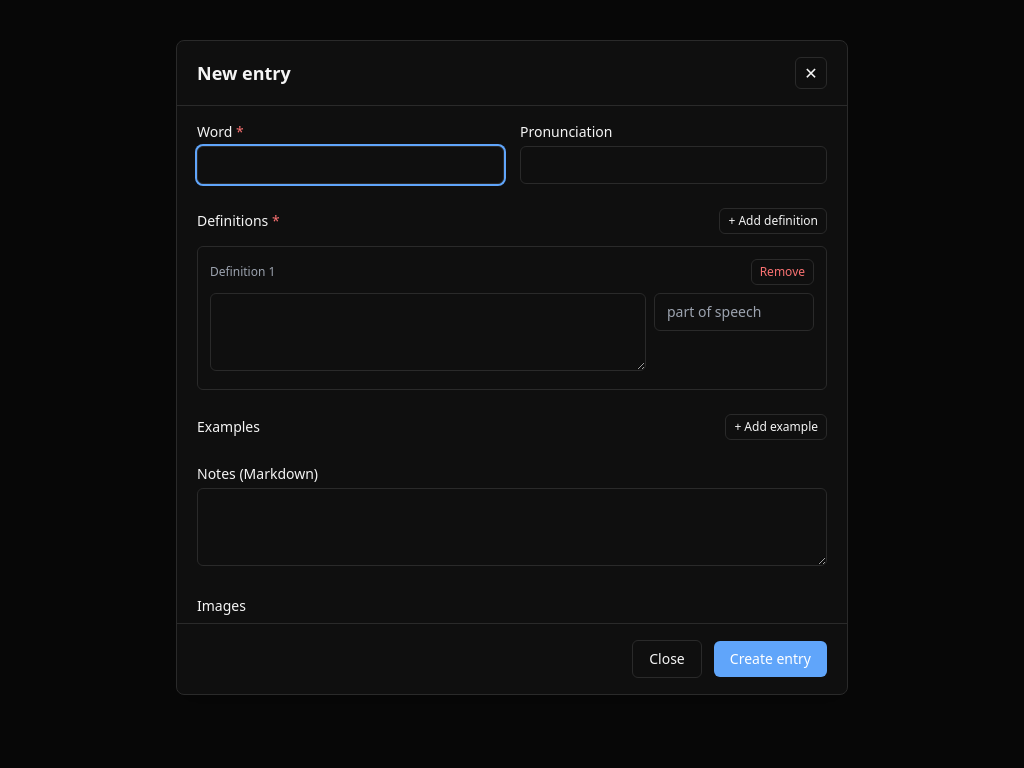
Test: EntryEditor › shows an inline error when the word is empty on submit
Fill a valid definition so the only error is the empty word.
Type "a meaning" into the text box named "definition 1 text".
click(428, 332); type("a meaning")  # box [210,293,646,371]
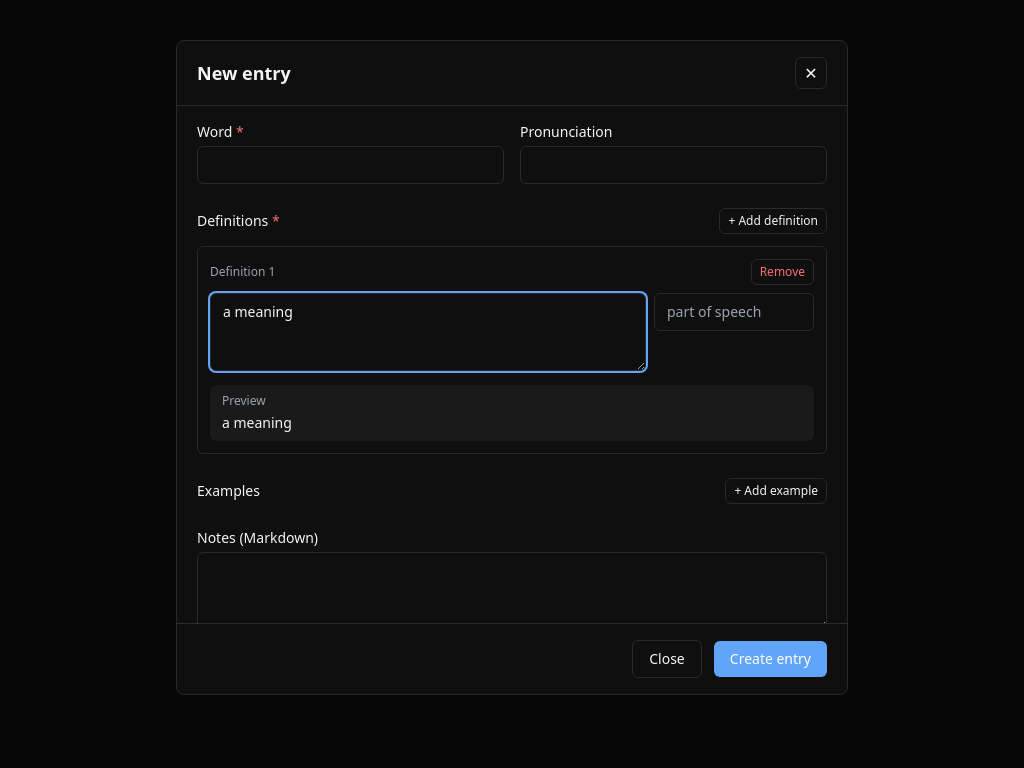
Click the button "Create entry".
click(770, 659)  # box [714,641,827,677]
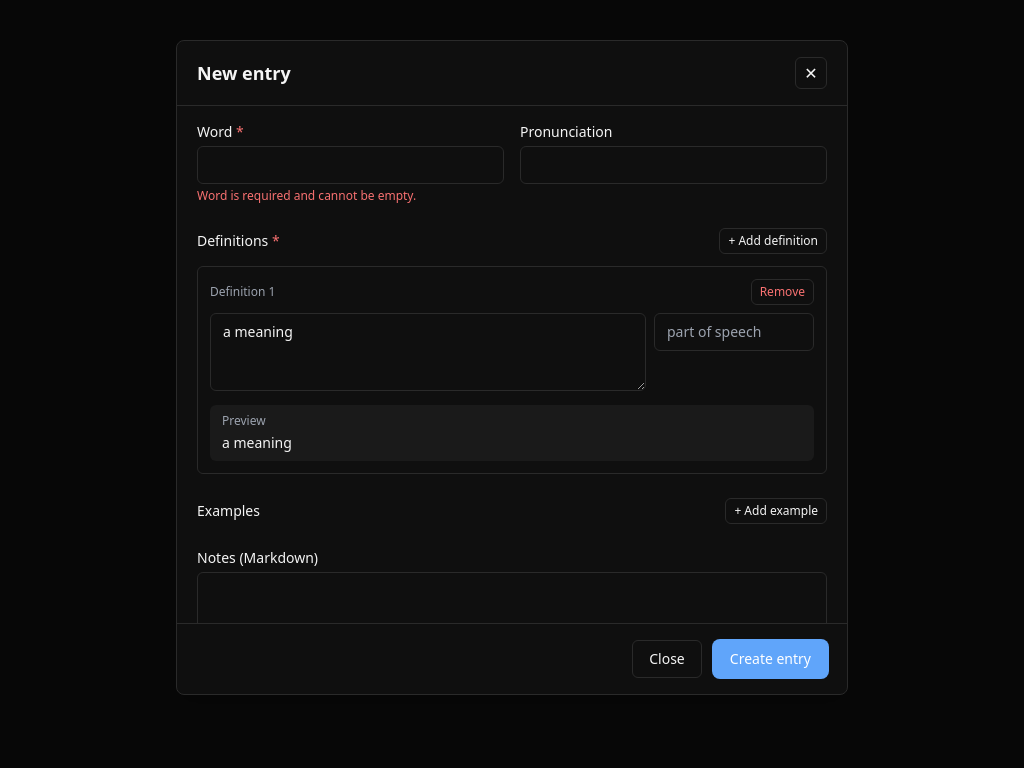
Expected: the text "Word is required and cannot be empty." is shown, [197,187,416,204]
